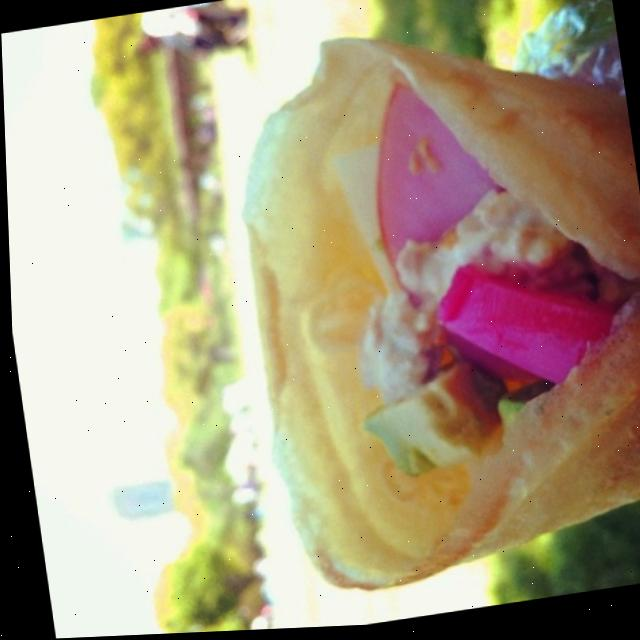米饭主食: (4, 114, 462, 570)
蔬菜料理: (1, 10, 294, 256)
